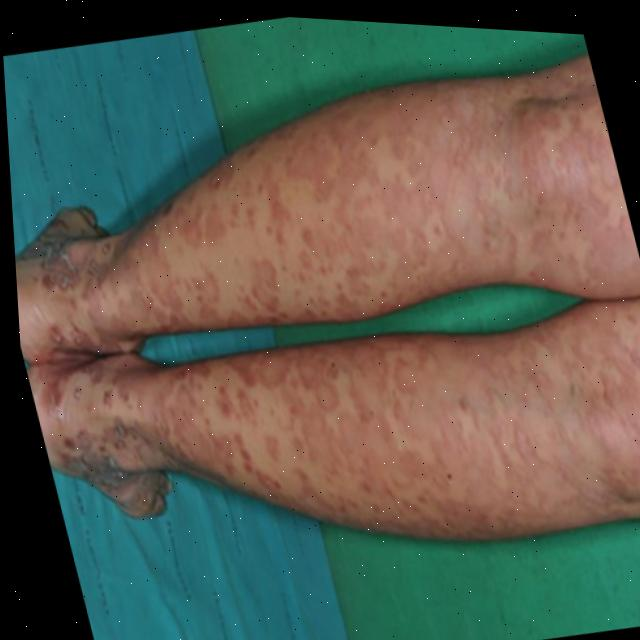Rosacea: (2, 32, 640, 399), (18, 245, 640, 619)
